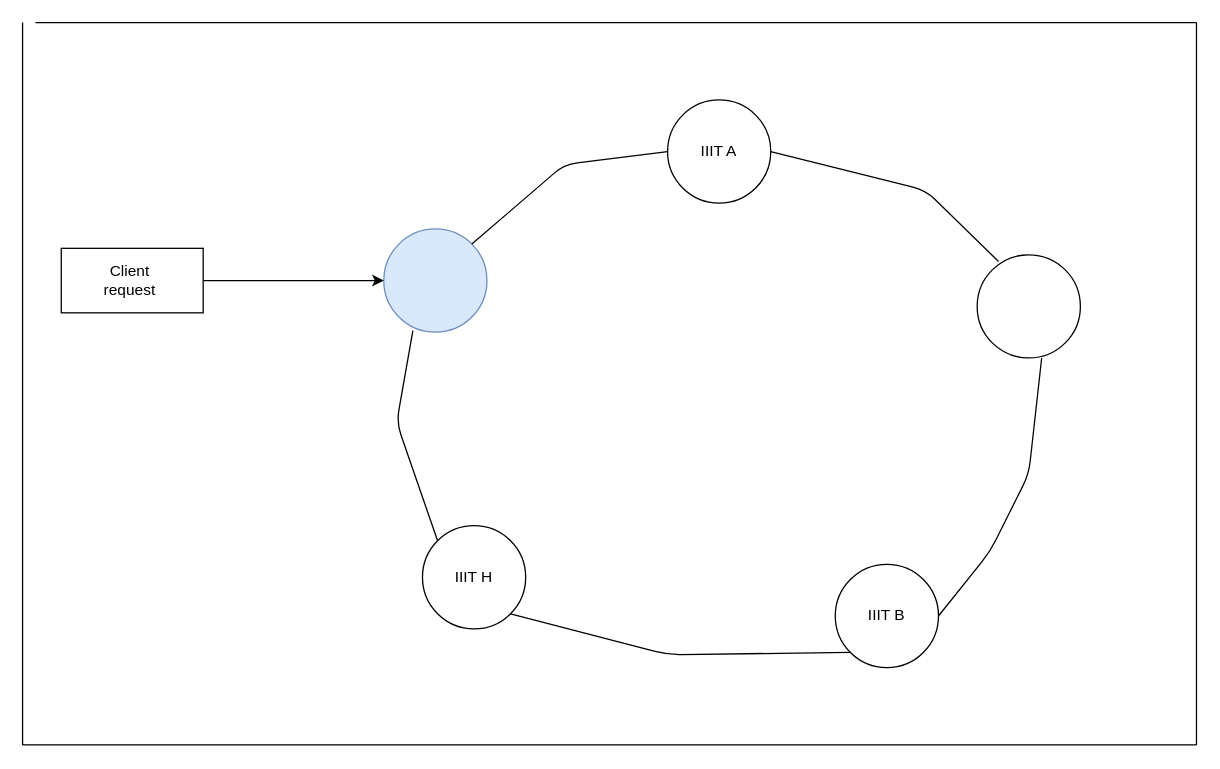
Image size: 1220x769. Some labels were removed from this diagram. Here are the shapes that lost their labels. From the top down, the box of each, then its label:
(382, 228, 487, 332): IIIT D (coordinator)
(976, 253, 1080, 358): IIIT G
